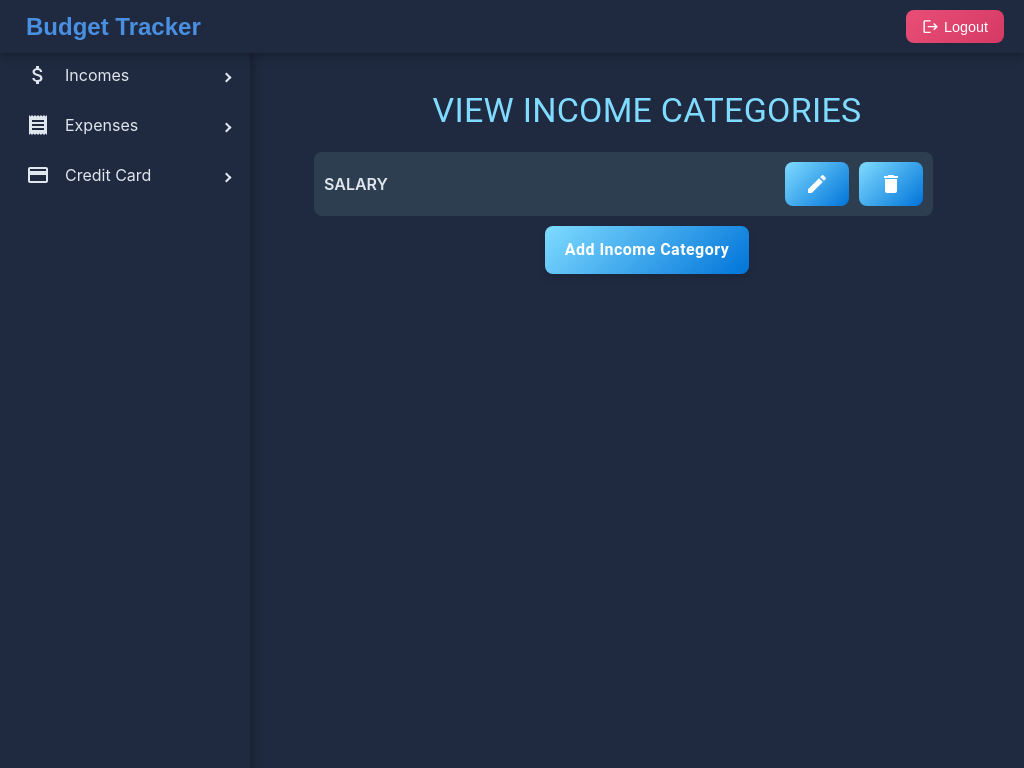
it: ViewIncomeCategory View › handles editing a category
The width and height of the screenshot is (1024, 768).
Expected: the text "Salary" is shown, [324,174,388,194]
// Click edit - use the appropriate label or test id to locate the edit button
Click the button with test id "EditIcon" at (817, 184), box [785,162,849,206]
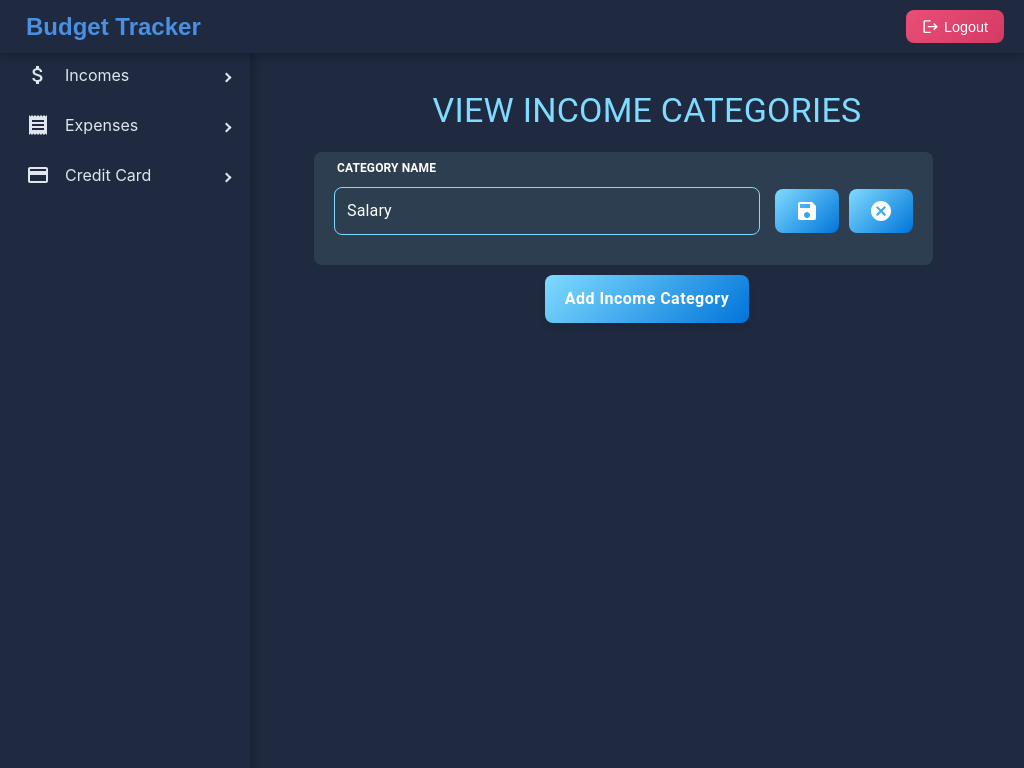
// Change the form input
Replace the text in the field labelled "Category Name" with "Bonus" at (547, 211), box [347,200,747,222]
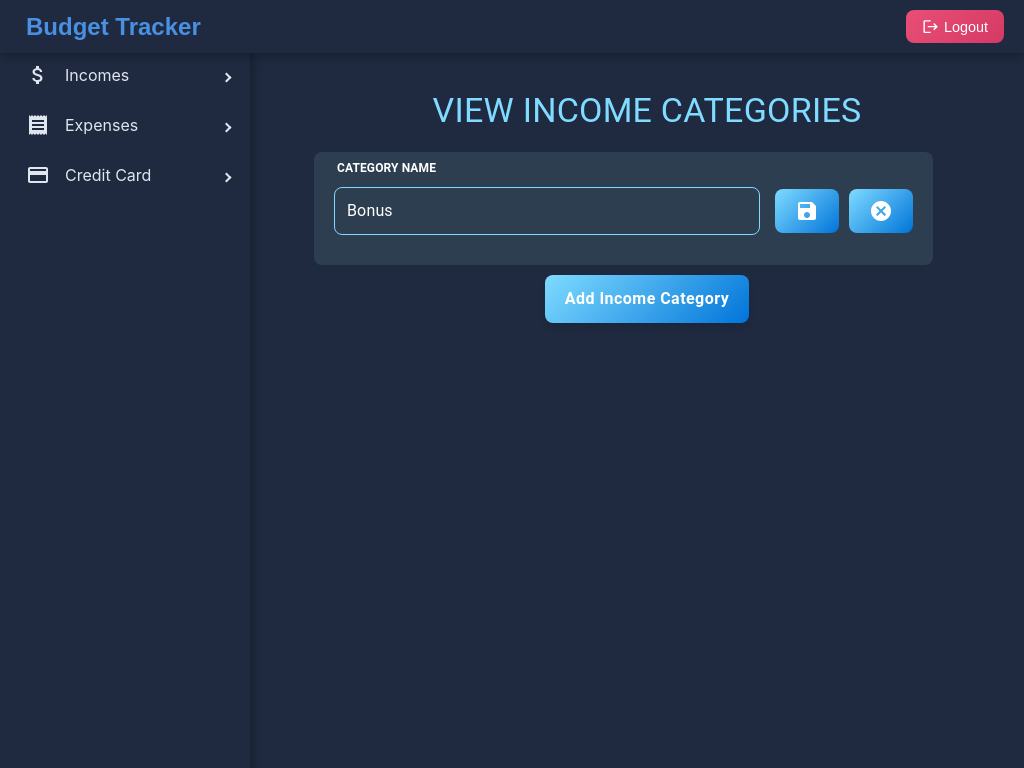
// Click save
Click the button with test id "save-button" at (807, 211), box [775,189,839,233]
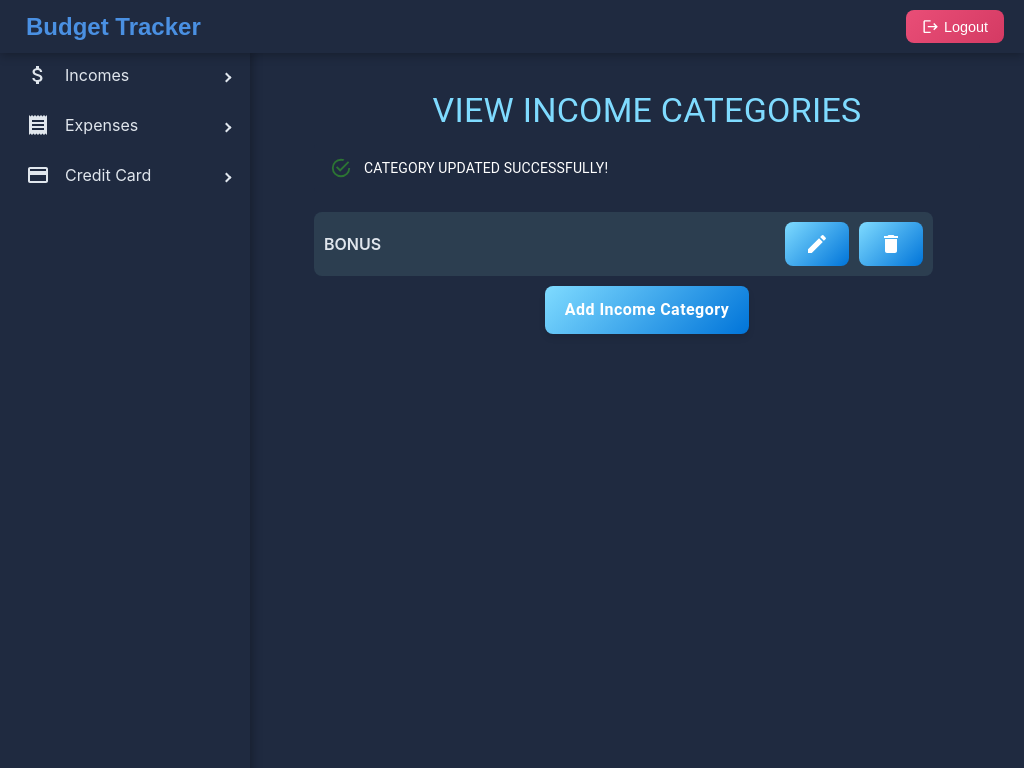
Result: the text "Bonus" is shown at [324,234,381,254]
